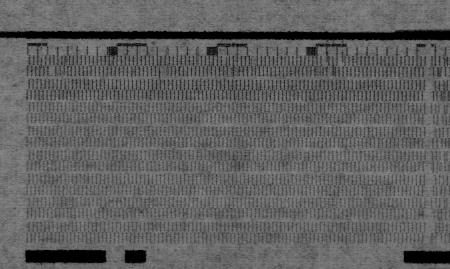Broken hole: (158, 65, 171, 78), (46, 65, 58, 77)
Oblique printing: (430, 53, 450, 125), (433, 173, 450, 246), (318, 51, 347, 79), (221, 54, 231, 69)
